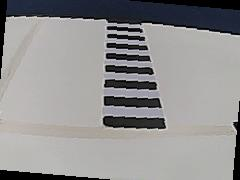CrossWalk: (100, 17, 164, 138)
